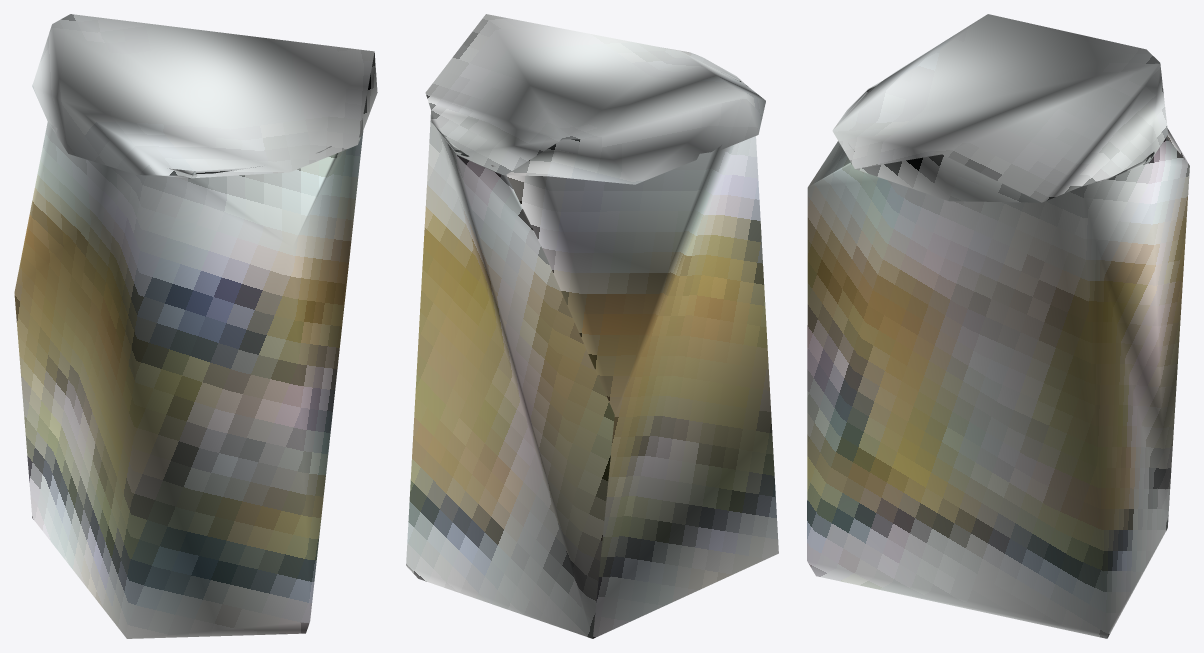
File: Organic_Whey_Protein_Unflavored-low.glb
3 renders of one model, left to right at view 1: azimuth 30°, elevation 25°; view 2: azimuth 150°, elevation 25°; view 3: azimuth 270°, elevation 25°, orthographic. The views are drawn at different scales.
Parts seen in each view (by area): view 1: Organic_Whey_Protein_Unflavored; view 2: Organic_Whey_Protein_Unflavored; view 3: Organic_Whey_Protein_Unflavored.
Boxes of the visible parts, x1=… form: Organic_Whey_Protein_Unflavored: x1=14, y1=14, x2=377, y2=638; Organic_Whey_Protein_Unflavored: x1=406, y1=14, x2=778, y2=638; Organic_Whey_Protein_Unflavored: x1=807, y1=14, x2=1189, y2=638.
Size of the model in its own units: 0.103 by 0.1672 by 0.1169.
1 material, 1 textured.
